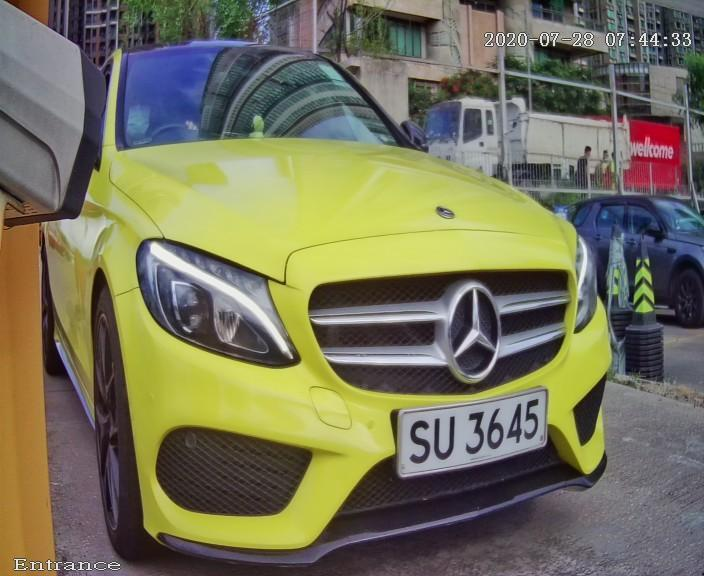privatecar: (41, 3, 651, 576)
